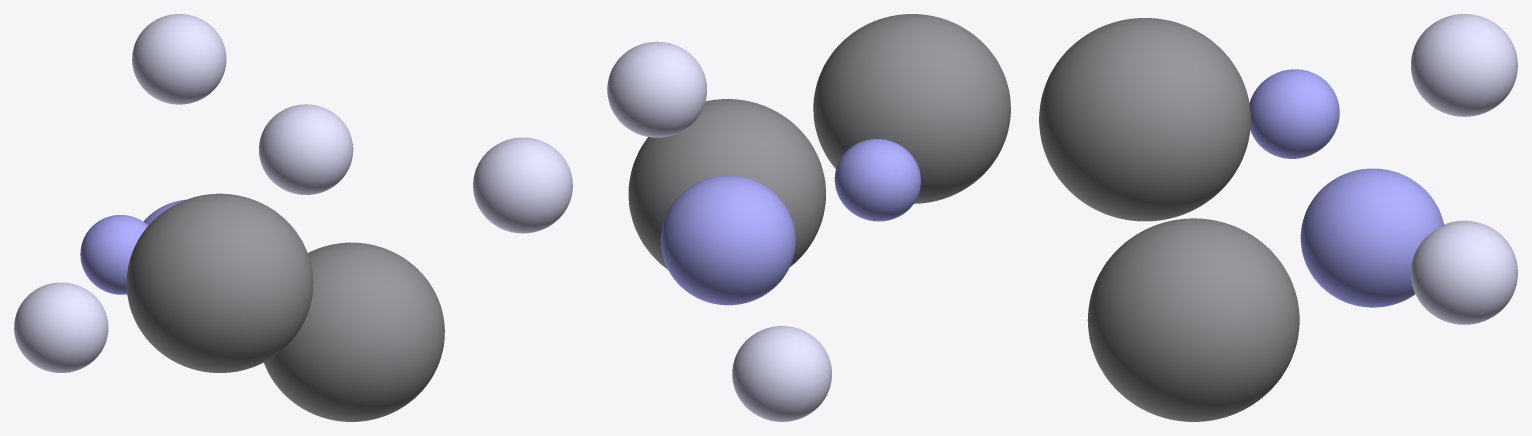
File: glass.gltf
3 renders of one model, left to right at view 1: azimuth 30°, elevation 25°; view 2: azimuth 150°, elevation 25°; view 3: azimuth 270°, elevation 25°, orthographic. The views are drawn at different scales.
Visible parts, largest first — view 1: Sphere 4, Sphere, Sphere 6, Sphere 5, Sphere 3, Sphere 7; view 2: Sphere 4, Sphere, Sphere 2, Sphere 3, Sphere 5, Sphere 6, Sphere 7; view 3: Sphere, Sphere 4, Sphere 2, Sphere 3, Sphere 6, Sphere 7.
Boxes of the visible parts, x1,y1,x2,y2 form: Sphere 4: (126,193,313,372); Sphere: (264,242,444,421); Sphere 6: (132,14,226,104); Sphere 5: (14,282,108,372); Sphere 3: (259,104,353,194); Sphere 7: (80,215,148,294); Sphere 4: (813,14,1010,203); Sphere: (628,99,825,269); Sphere 2: (660,175,795,305); Sphere 3: (473,137,572,233); Sphere 5: (732,326,831,421); Sphere 6: (607,41,706,137); Sphere 7: (834,139,920,221); Sphere: (1087,218,1299,421); Sphere 4: (1039,18,1250,221); Sphere 2: (1300,168,1444,307); Sphere 3: (1411,222,1517,324); Sphere 6: (1411,14,1517,116); Sphere 7: (1249,69,1339,158).
Size of the model in its own units: 593 by 522 by 622.
